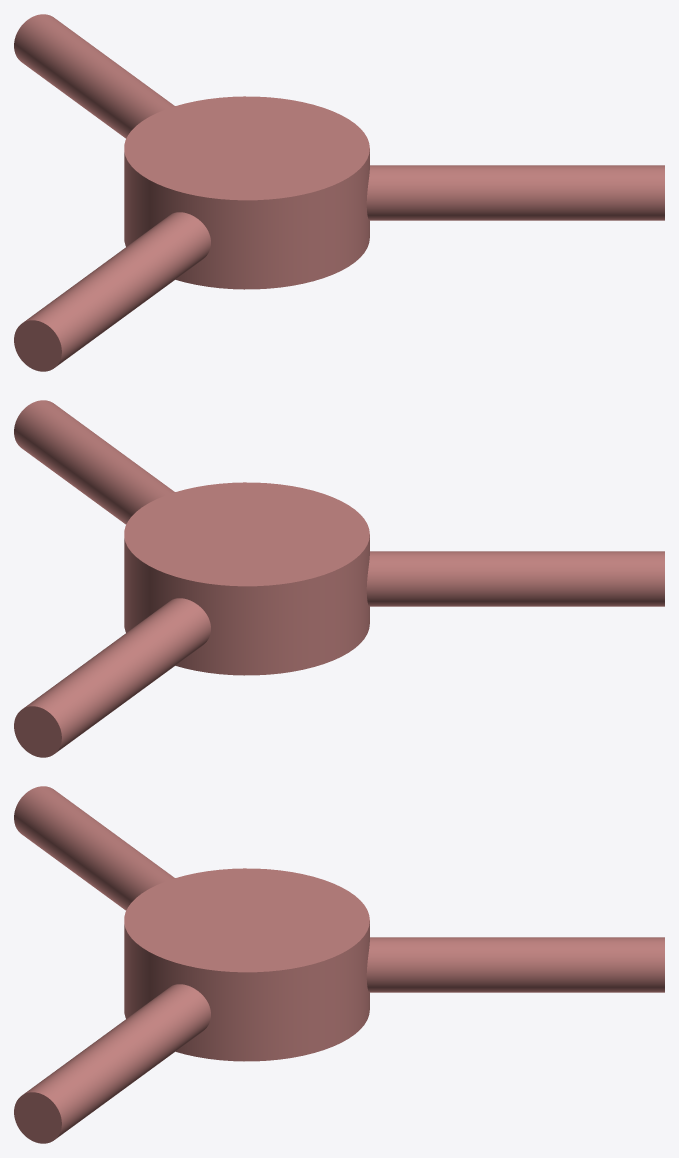
Rendered from step_55.glb.
3 renders of one model, top to bottom at view 1: azimuth 30°, elevation 25°; view 2: azimuth 150°, elevation 25°; view 3: azimuth 270°, elevation 25°, orthographic.
Parts seen in each view (by area): view 1: part__4" needle valve handwheel; view 2: part__4" needle valve handwheel; view 3: part__4" needle valve handwheel.
Boxes of the visible parts, x1=… form: part__4" needle valve handwheel: x1=14, y1=14, x2=664, y2=371; part__4" needle valve handwheel: x1=14, y1=400, x2=664, y2=757; part__4" needle valve handwheel: x1=14, y1=786, x2=664, y2=1143.
Bounding box in the file's own units: 69.88 × 9.14 × 60.52.
